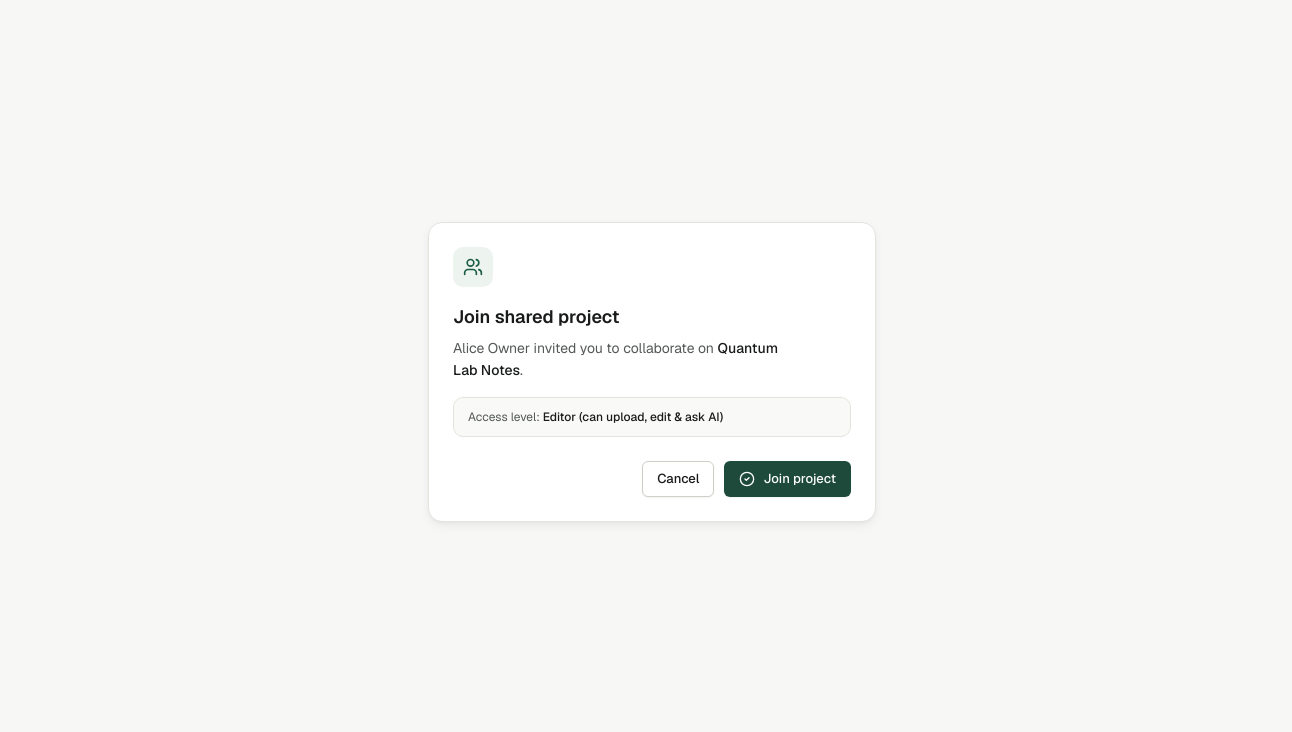
Scenario: Multi-user collaboration & realtime UI › JoinInvitePage previews and accepts invite before redirecting
Expected: the text "Quantum Lab Notes" is shown, [453,339,778,379]
What coordinates should you click on to do the following:
click the button "Join project"
I would click on:
 (788, 479)
Its box is [724,461,851,497].
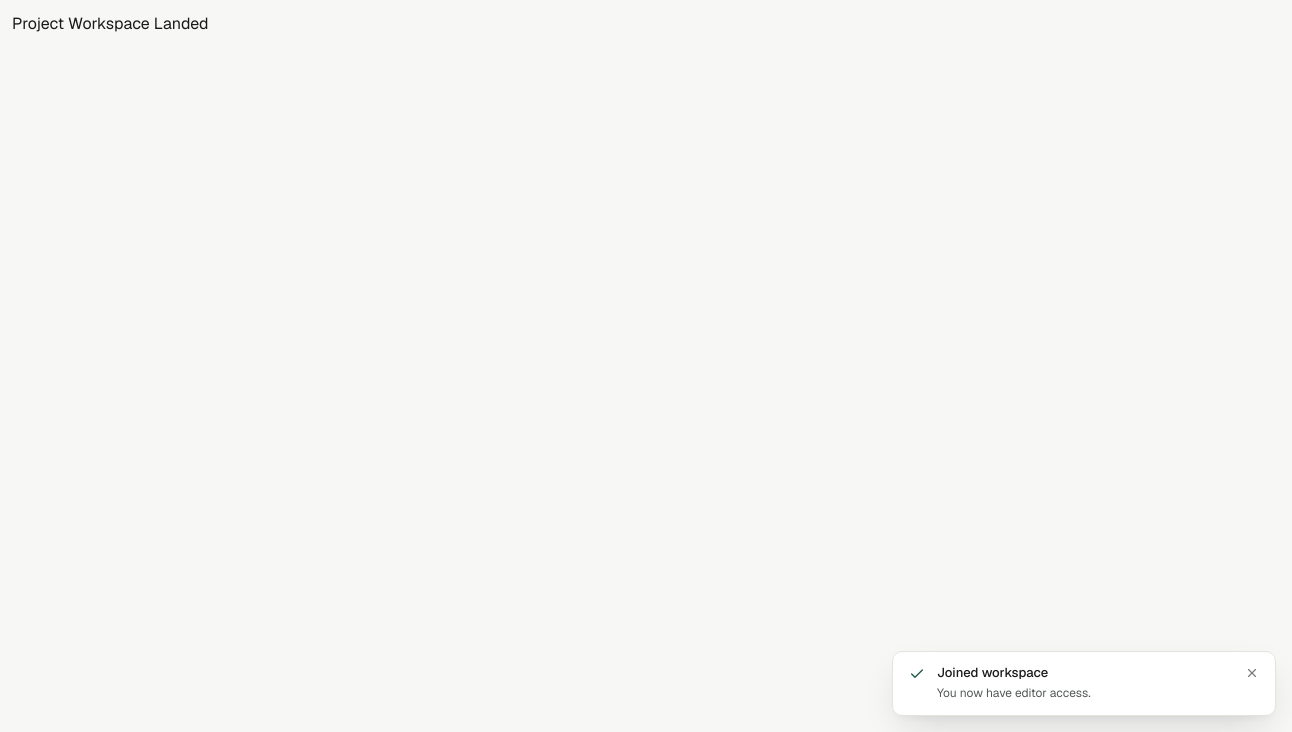
Now the text "Project Workspace Landed" is shown, box [12,13,209,34]
